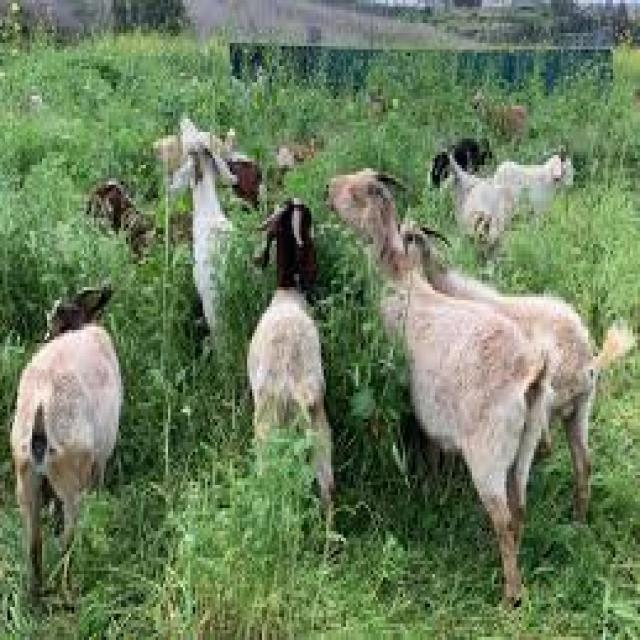goat: (329, 168, 549, 600), (400, 218, 633, 511), (10, 284, 121, 587), (247, 198, 331, 501), (168, 119, 232, 327)
